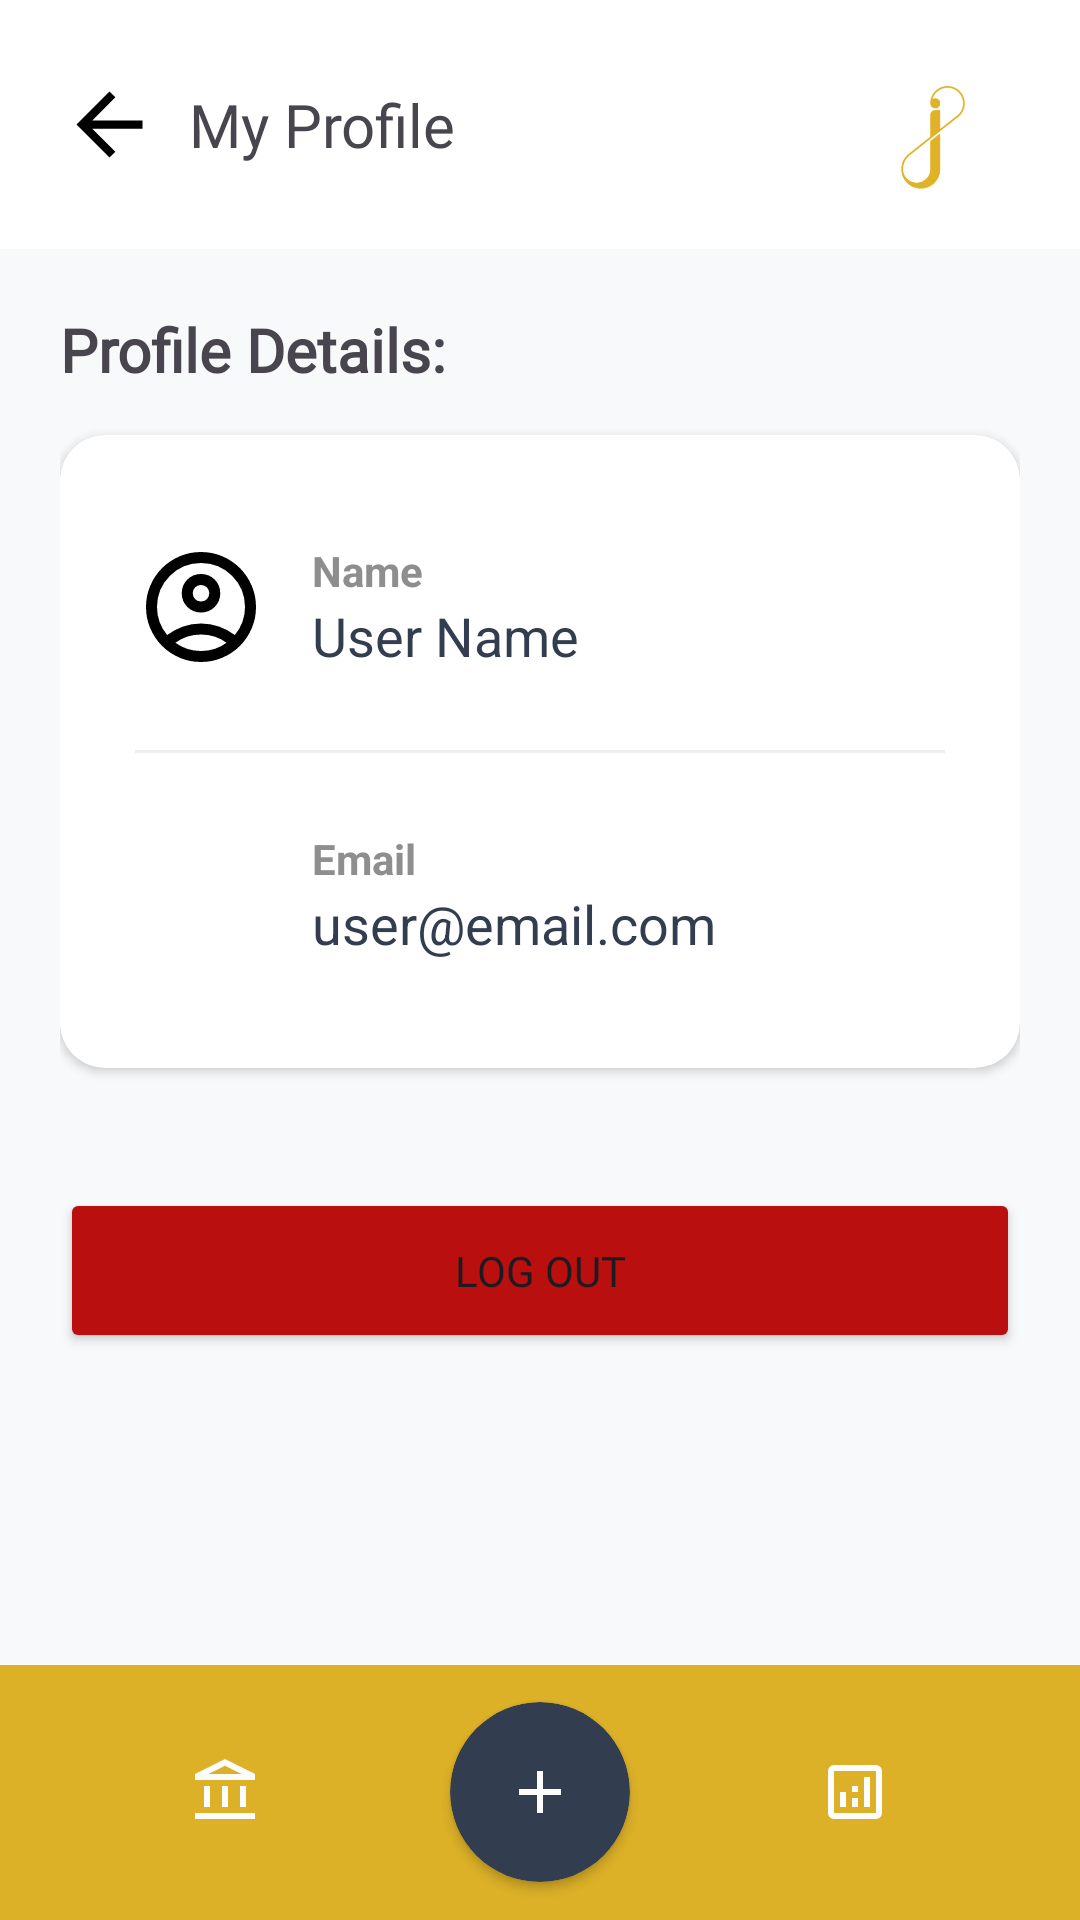

Screen size 1080px x 1920px. Icon name, then its box in pixels as bbox=(x1, y1, x2, y2):
account balance: bbox=(195, 1759, 255, 1819)
account circle: bbox=(146, 552, 256, 662)
add: bbox=(519, 1771, 561, 1813)
analytics: bbox=(828, 1765, 882, 1819)
arrowback: bbox=(76, 91, 143, 158)
